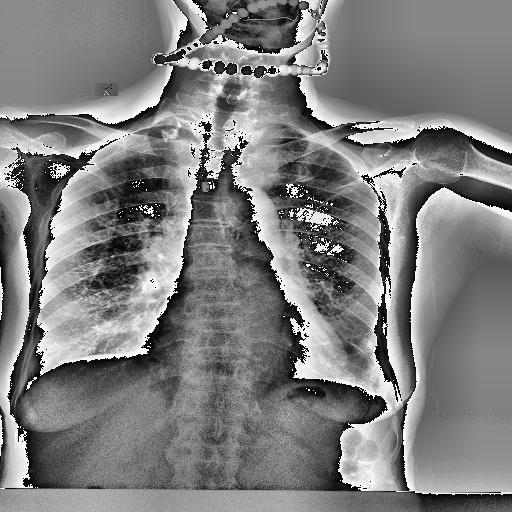0- Aortic enlargement: (225, 186, 278, 240), (222, 186, 279, 230)
13- Pulmonary fibrosis: (307, 184, 360, 216), (157, 123, 183, 143)
2- Calcification: (157, 123, 183, 143)
3- Cardiomegaly: (132, 319, 356, 381), (130, 328, 348, 390), (140, 328, 347, 378)
9- Other lesion: (161, 121, 183, 140)
